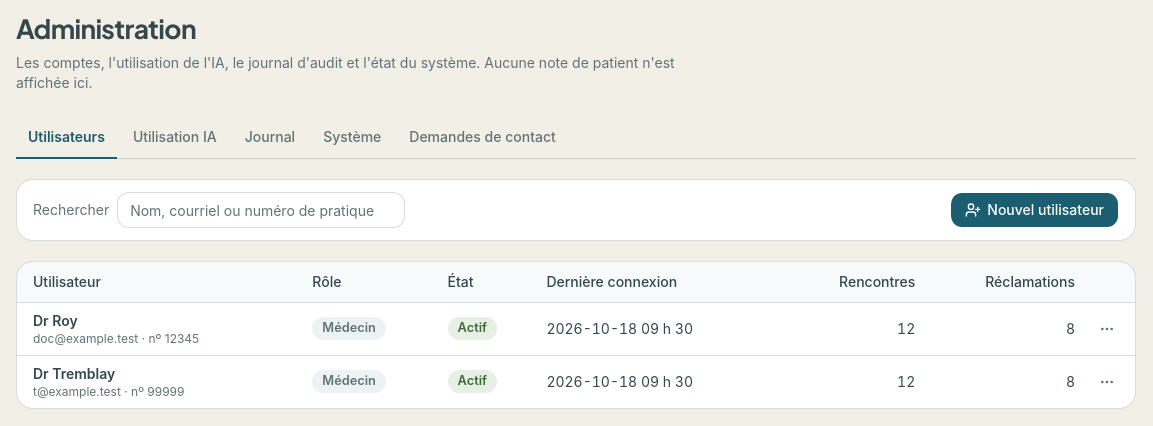
Scenario: users tab › filters by name, email or practice number
Expected: the text "Dr Roy" is shown, [33, 312, 78, 328]
Type "9999" into the field labelled "Rechercher".
click(261, 210); type("9999")  # box [117, 192, 405, 228]
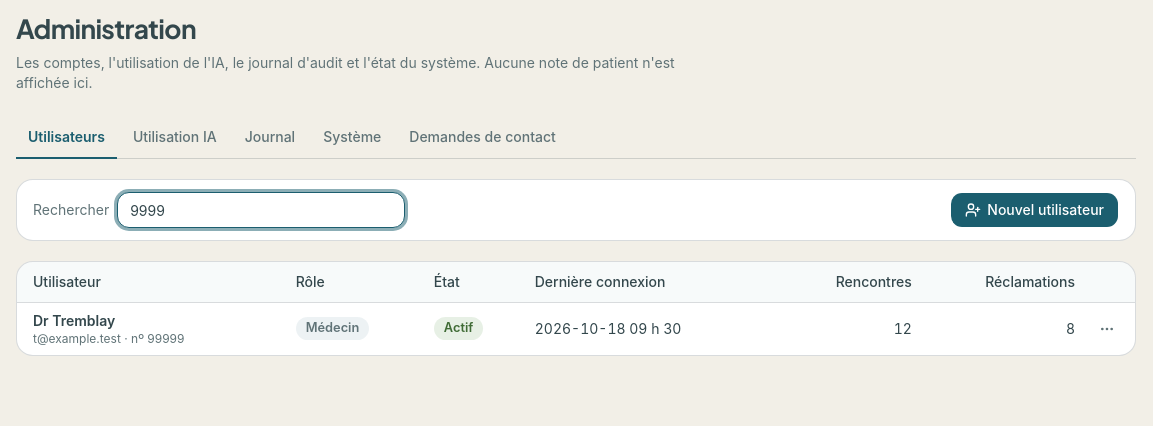
Expected: the text "Dr Tremblay" is shown, [33, 312, 115, 328]
Expected: the text "Dr Roy" is gone
